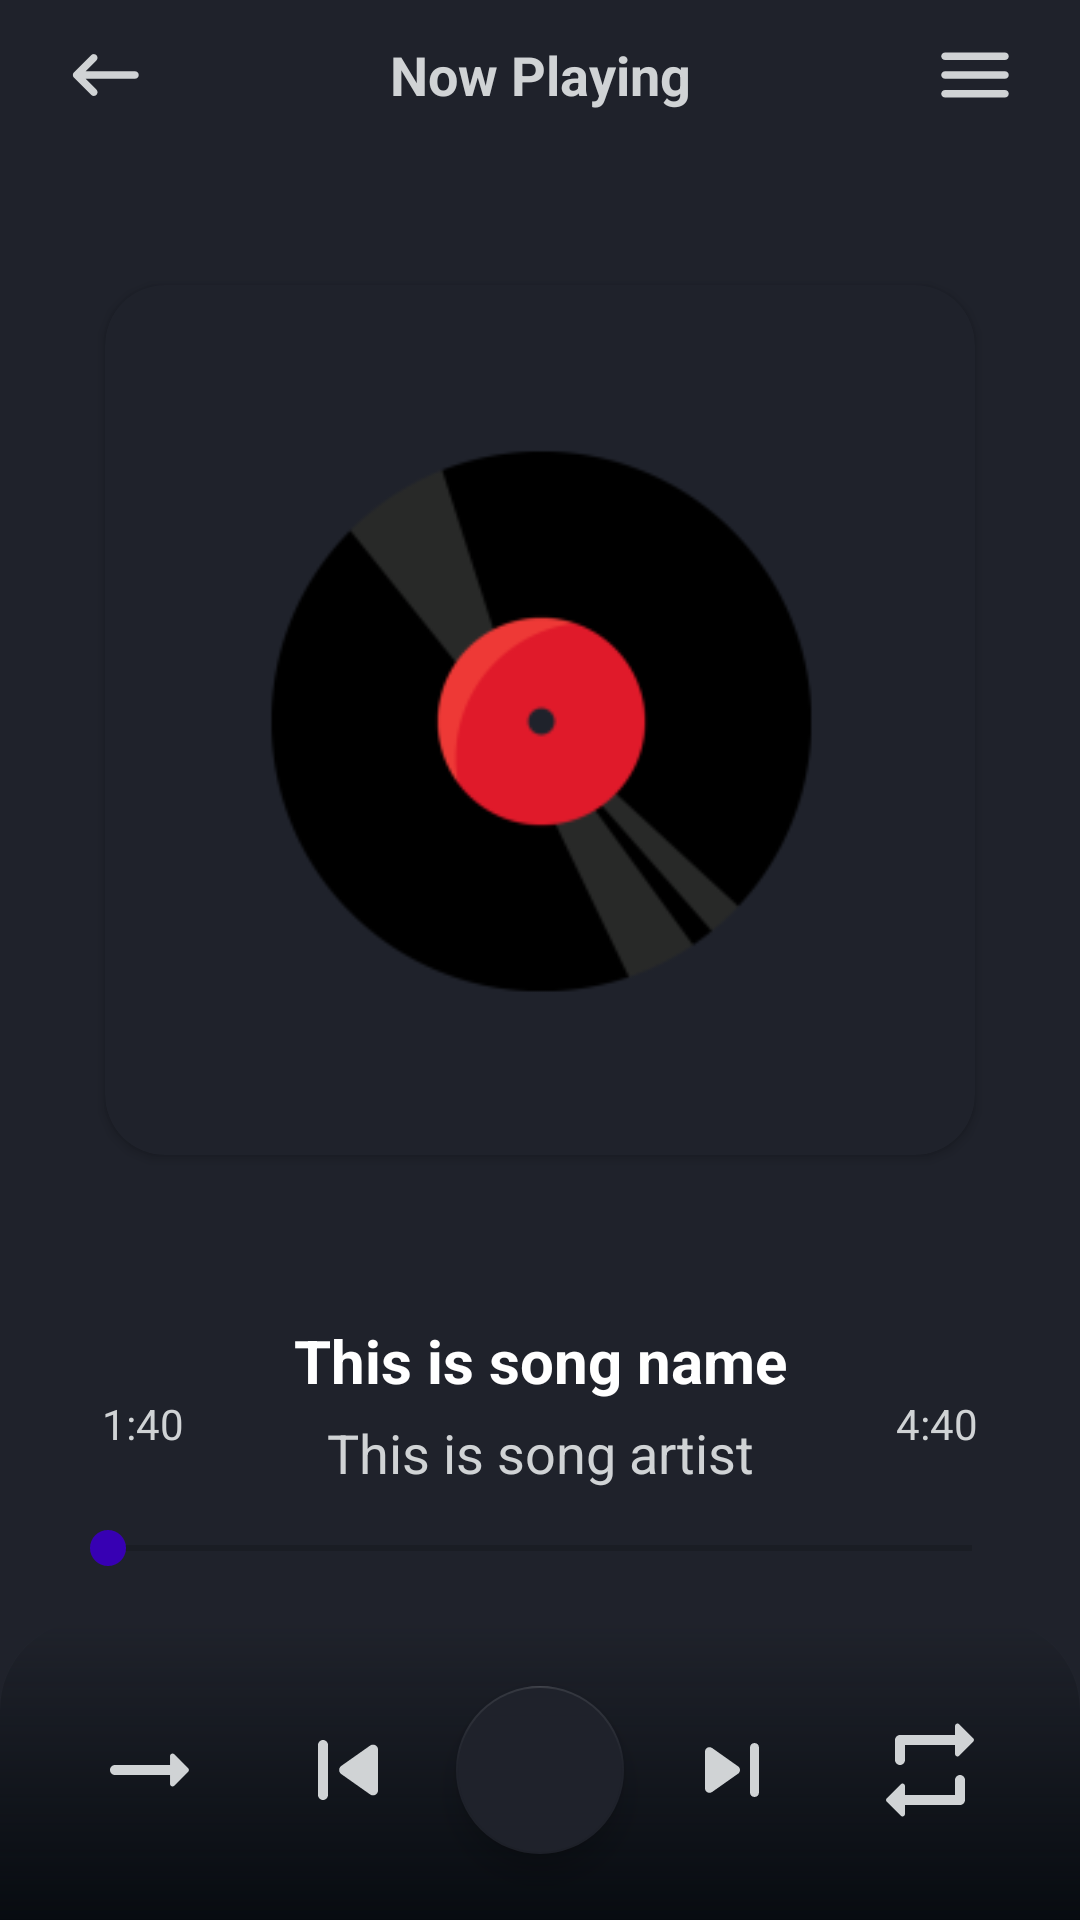

Point at icon controls on the screen. Image size 1080×1920, points as [x,y].
keyboard backspace: [106,75]
menu: [975,75]
repeat off: [930,1770]
skip next: [732,1770]
skip previous: [348,1770]
